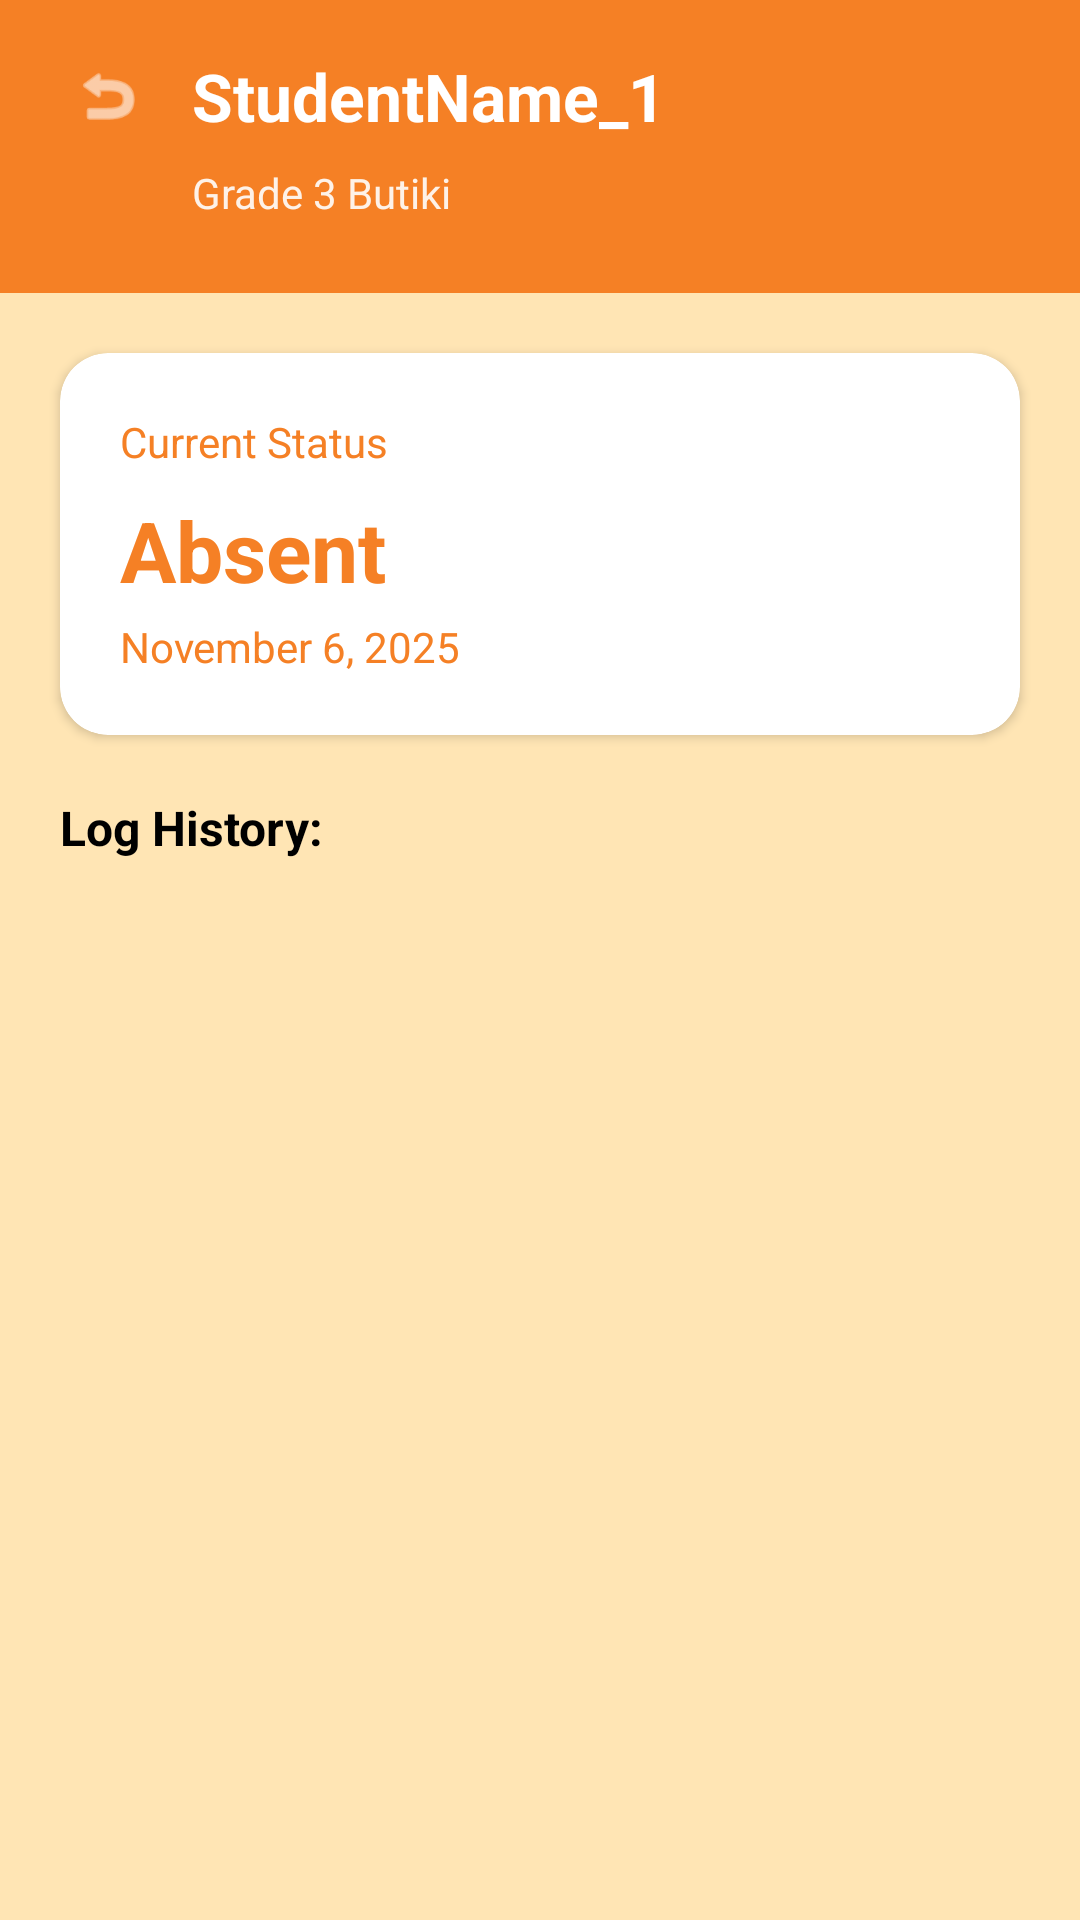

Screen size 1080 x 1920. Icon name, then its center in pixels as [x,y]:
Back: [109,96]
